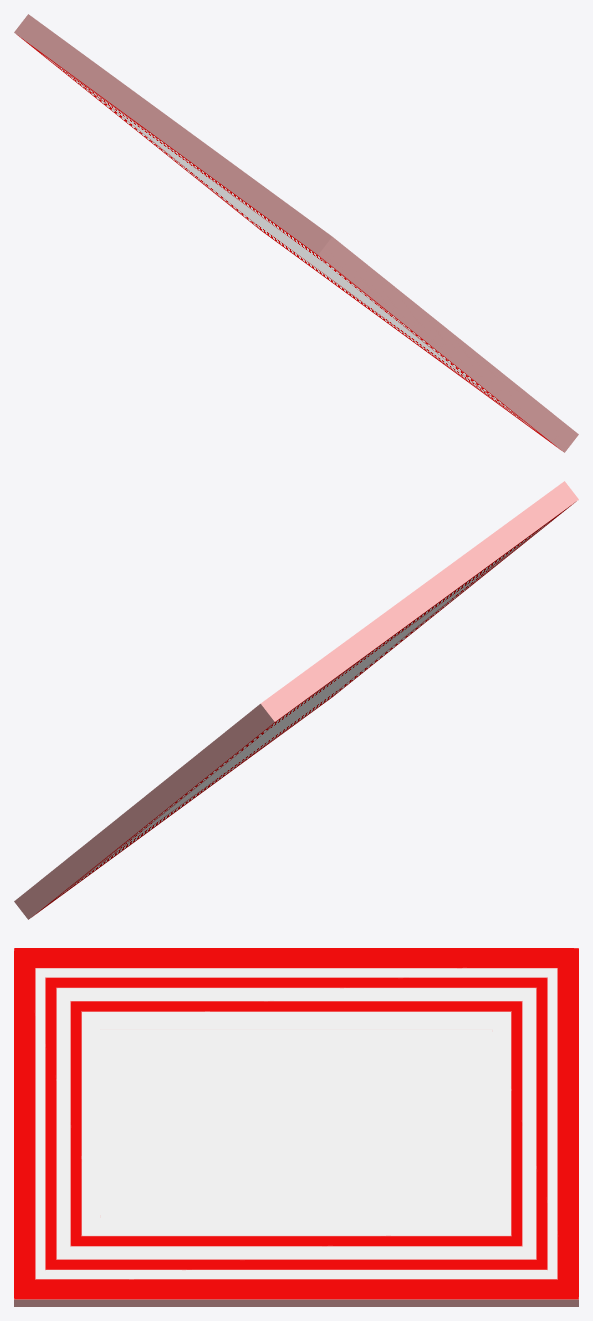
File: PowerDownGlass.fbx
3 renders of one model, top to bottom at view 1: azimuth 30°, elevation 25°; view 2: azimuth 150°, elevation 25°; view 3: azimuth 270°, elevation 25°, orthographic. The views are drawn at different scales.
Visible parts, largest first — view 1: Glass; view 2: Glass; view 3: Glass.
Boxes of the visible parts, x1=… form: Glass: x1=14, y1=14, x2=578, y2=452; Glass: x1=14, y1=481, x2=578, y2=919; Glass: x1=14, y1=948, x2=578, y2=1306.
Bounding box in the file's own units: 64.39 × 64.39 × 130.
